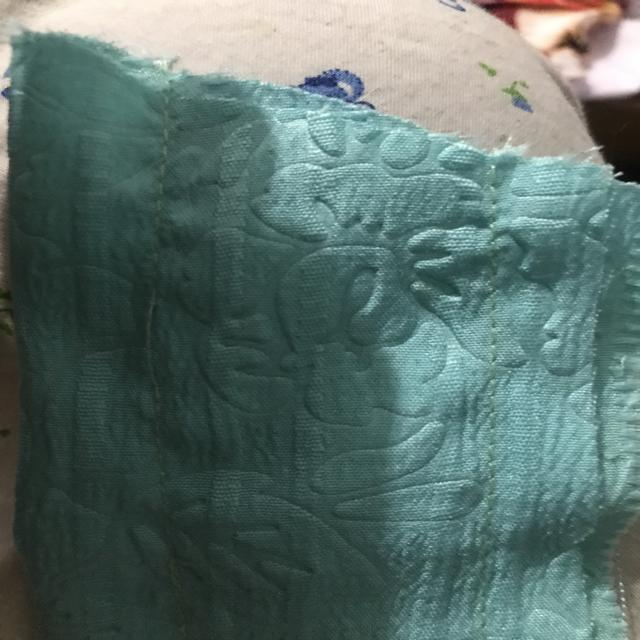good: (133, 112, 181, 230)
skip: (136, 280, 170, 414)
